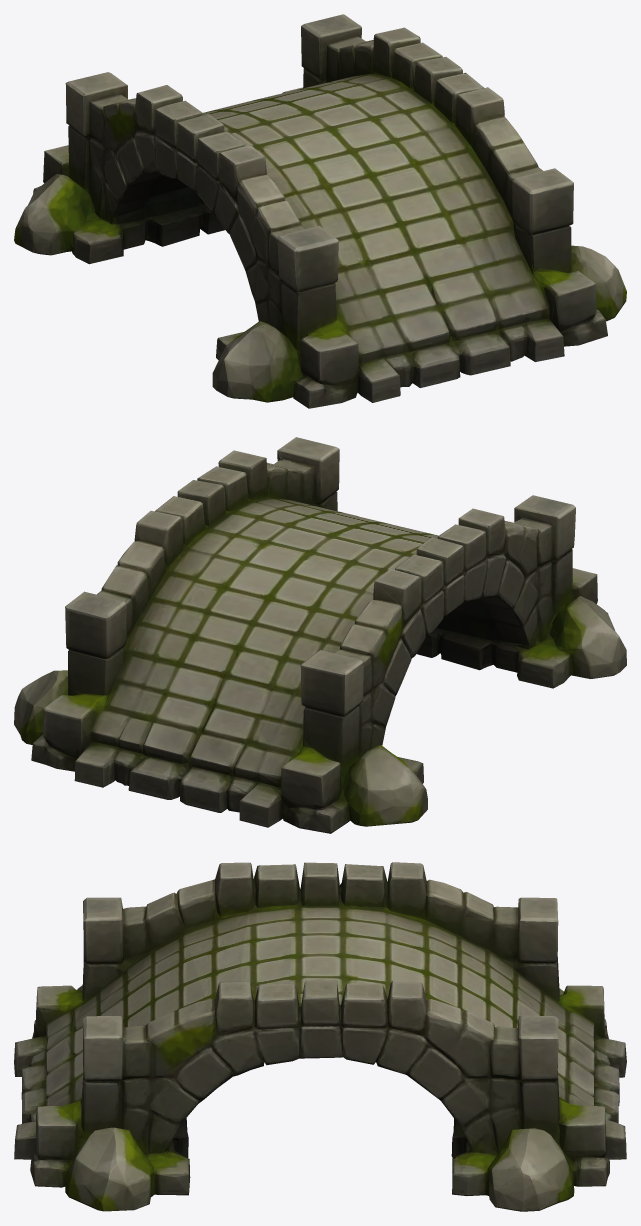
Rendered from stone_bridge.glb.
3 views of the same model, one above another, from view 1: azimuth 30°, elevation 25°; view 2: azimuth 150°, elevation 25°; view 3: azimuth 270°, elevation 25° (orthographic). The views are drawn at different scales.
Parts seen in each view (by area): view 1: world; view 2: world; view 3: world.
Part boxes in pixels (<box>): world: <box>14,14,626,408</box>; world: <box>14,437,626,833</box>; world: <box>14,862,626,1211</box>.
Size of the model in its own units: 0.7773 by 0.3303 by 0.9955.
1 material, 1 textured.
